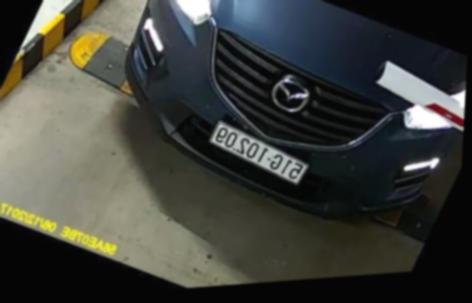License_Plate: (199, 118, 317, 196)
